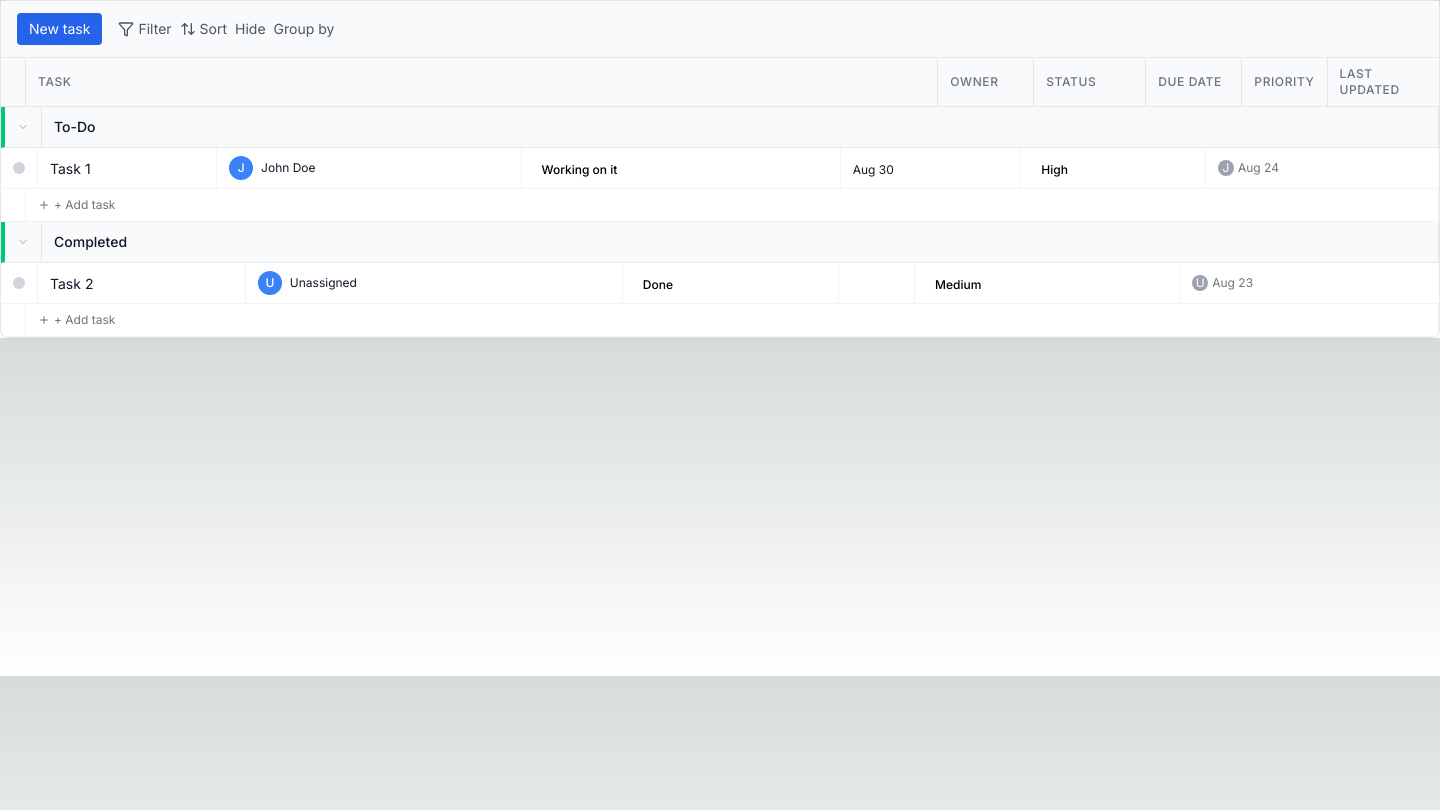
TaskBoard › handles task title editing
Click the text "Task 1" at (70, 168), box top-left (50, 160), bottom-right (91, 177)
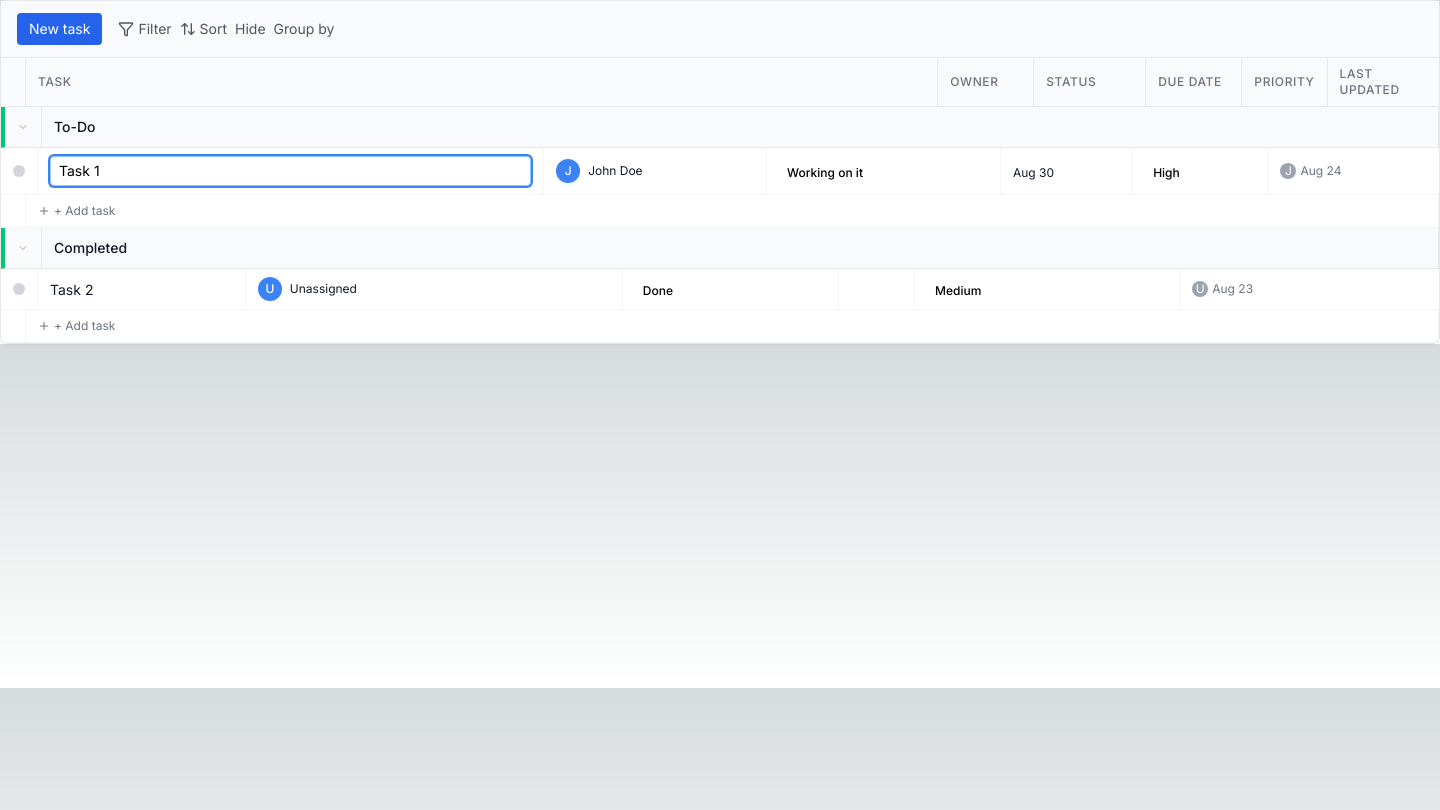
expect the field showing "Task 1" is shown: met, box top-left (50, 156), bottom-right (531, 186)
